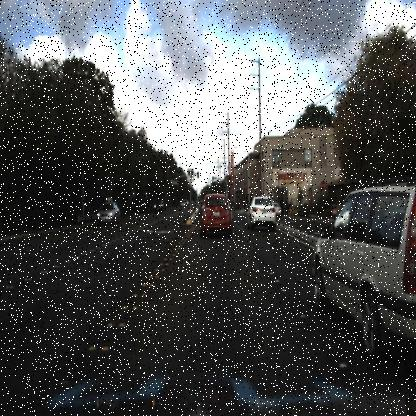car: (301, 167, 415, 370), (192, 189, 240, 239), (243, 187, 279, 235), (92, 198, 120, 228), (273, 196, 289, 218), (151, 196, 166, 214)
